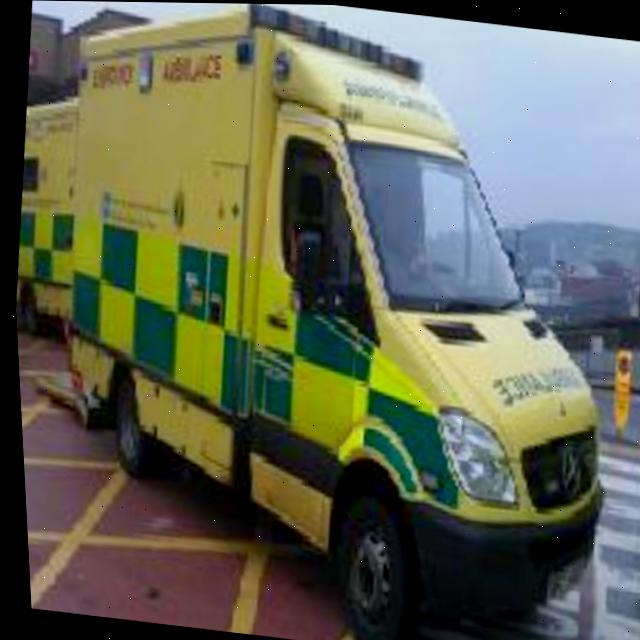emergency: (15, 0, 640, 640)
